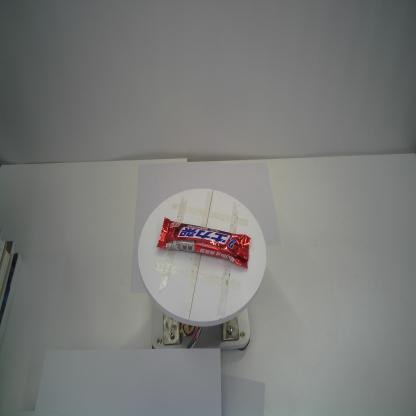Chocolate: (153, 215, 251, 272)
